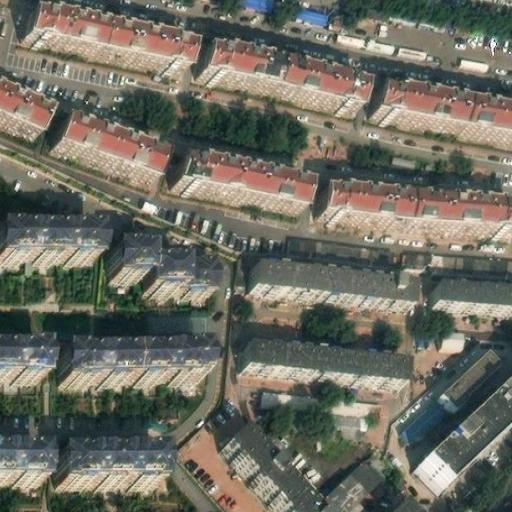building: (194, 41, 360, 107), (23, 0, 191, 65), (315, 184, 512, 231), (218, 426, 316, 512), (367, 84, 512, 140), (169, 152, 304, 209), (49, 111, 160, 180), (246, 261, 408, 306), (239, 342, 404, 382), (112, 244, 209, 297), (310, 452, 387, 512), (56, 349, 199, 380), (55, 446, 158, 483), (437, 349, 498, 408), (0, 225, 93, 257), (260, 388, 375, 410), (0, 83, 46, 133), (430, 280, 512, 308), (0, 445, 40, 483), (0, 347, 38, 381), (289, 2, 328, 28)
